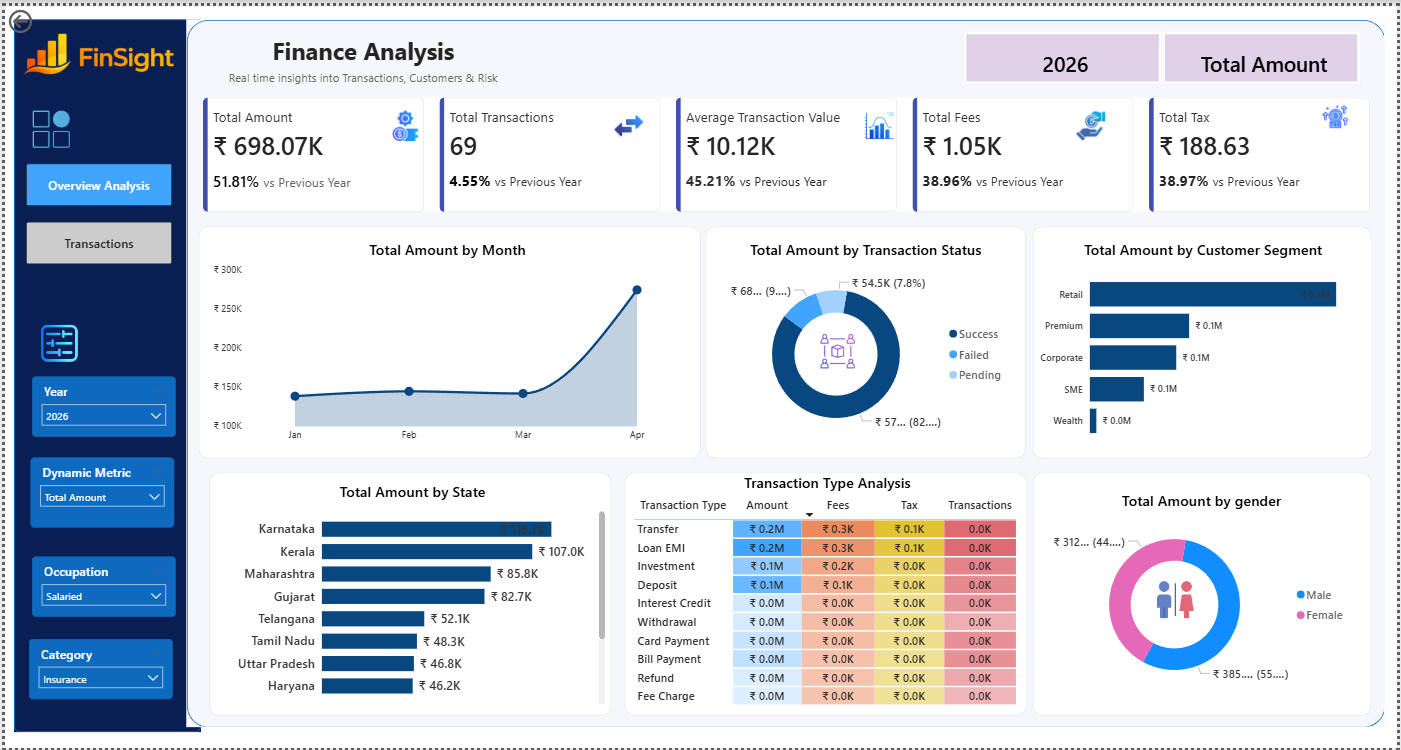

The page's visual inventory and layout, read from the dashboard file:
{"tool":"powerbi","page":{"name":"Overview Analysis","canvas":[1800,960],"ordinal":0},"visuals":[{"type":"shape","box":[10.8,17.3,241.8,921.9],"z":0},{"type":"shape","box":[235.3,17.3,1550.1,915.4],"z":1000},{"type":"image","box":[10.8,17.3,224.5,90.7],"z":2000},{"type":"card","fields":{"Values":["finance_transactions.Dashboard Title"]},"box":[256.9,19.4,414.5,99.3],"z":3000},{"type":"cardVisual","fields":{"Data":["finance_transactions.Total Amount","finance_transactions.Total Transactions","finance_transactions.Average Transaction Value","finance_transactions.Total Fees","finance_transactions.Total Tax"]},"box":[256.9,118.7,1513.4,149],"z":4000},{"type":"slicer","fields":{"Values":["Calendar Table.Year"]},"box":[34.5,479.3,185.7,77.7],"z":5000},{"type":"actionButton","box":[0,0,100,40],"z":6000},{"type":"image","box":[541.9,116.6,50,50],"z":7000},{"type":"image","box":[831.2,116.6,50,50],"z":8000},{"type":"image","box":[1429.2,116.6,49.7,49.7],"z":9000},{"type":"image","box":[1129.1,118.7,49.7,49.7],"z":10000},{"type":"image","box":[1720.7,116.6,49.7,50],"z":11000},{"type":"image","box":[492.2,129.5,49.7,49.7],"z":12000},{"type":"image","box":[781.5,129.5,49.7,49.7],"z":13000},{"type":"image","box":[1105.4,129.5,49.7,49.7],"z":14000},{"type":"image","box":[1379.6,129.5,49.7,49.7],"z":15000},{"type":"image","box":[1697,118.7,49.7,49.7],"z":16000},{"type":"slicer","fields":{"Values":["Dynamic Metric.Dynamic Metric"]},"box":[32.4,585.1,185.7,90.7],"z":17000},{"type":"shape","box":[250.4,285,649.9,300.1],"z":18000},{"type":"areaChart","fields":{"Y":["finance_transactions.Total Amount"],"Category":["Calendar Table.Month"]},"box":[263.4,302.3,617.5,269.9],"z":19000},{"type":"cardVisual","fields":{"Data":["finance_transactions.Selected Year","finance_transactions.Selected Dynamic Measure"]},"box":[1226.3,28.1,541.9,79.9],"z":20000},{"type":"shape","box":[906.8,285,414.5,300.1],"z":21000},{"type":"donutChart","fields":{"Y":["finance_transactions.Total Amount"],"Category":["finance_transactions.transaction_status"]},"box":[924,302.3,380,269.9],"z":22000},{"type":"shape","box":[1329.9,285,438.3,300.1],"z":23000},{"type":"barChart","fields":{"Y":["finance_transactions.Total Amount"],"Category":["customers.customer_segment"]},"box":[1334.2,302.3,434,272],"z":24000},{"type":"shape","box":[263.4,604.5,520.3,315],"z":25000},{"type":"barChart","fields":{"Y":["finance_transactions.Total Amount"],"Category":["customers.state"]},"box":[274.2,615.3,507.4,293.6],"z":26000},{"type":"shape","box":[801,604.5,520.3,315],"z":27000},{"type":"tableEx","title":"Transaction Type Analysis","fields":{"Values":["finance_transactions.transaction_type","finance_transactions.Total Amount","finance_transactions.Total Fees","finance_transactions.Total Tax","finance_transactions.Total Transactions"]},"box":[807.5,604.5,513.8,315.2],"z":28000},{"type":"shape","box":[1329.9,604.5,438.3,315.2],"z":29000},{"type":"donutChart","fields":{"Y":["finance_transactions.Total Amount"],"Category":["customers.gender"]},"box":[1351.5,626.1,395.1,269.9],"z":30000},{"type":"image","box":[1047.1,416.7,58.3,58.3],"z":31000},{"type":"image","box":[1478.9,736.2,71.2,64.8],"z":32000},{"type":"slicer","fields":{"Values":["customers.occupation"]},"box":[34.5,712.5,185.7,77.7],"z":33000},{"type":"slicer","fields":{"Values":["finance_transactions.merchant_category"]},"box":[30.2,818.3,185.7,77.7],"z":34000},{"type":"pageNavigator","box":[28.1,202.9,190,131.7],"z":35000},{"type":"image","box":[28.1,129.5,64.8,58.3],"z":36000},{"type":"image","box":[34.5,403.7,71.2,64.8],"z":37000}]}

Visuals, with their boxes on the page's 1800x960 design canvas (x1, y1, x2, y2). These are canvas units, not pixel positions in the 1401x750 screenshot, which may show the page scaled, cropped or inside an application window:
shape: bbox=[11, 17, 253, 939]
shape: bbox=[235, 17, 1785, 933]
image: bbox=[11, 17, 235, 108]
card - finance_transactions.Dashboard Title: bbox=[257, 19, 671, 119]
cardVisual - finance_transactions.Total Amount x finance_transactions.Total Transactions: bbox=[257, 119, 1770, 268]
slicer - Calendar Table.Year: bbox=[34, 479, 220, 557]
actionButton: bbox=[0, 0, 100, 40]
image: bbox=[542, 117, 592, 167]
image: bbox=[831, 117, 881, 167]
image: bbox=[1429, 117, 1479, 166]
image: bbox=[1129, 119, 1179, 168]
image: bbox=[1721, 117, 1770, 167]
image: bbox=[492, 130, 542, 179]
image: bbox=[782, 130, 831, 179]
image: bbox=[1105, 130, 1155, 179]
image: bbox=[1380, 130, 1429, 179]
image: bbox=[1697, 119, 1747, 168]
slicer - Dynamic Metric.Dynamic Metric: bbox=[32, 585, 218, 676]
shape: bbox=[250, 285, 900, 585]
areaChart - finance_transactions.Total Amount x Calendar Table.Month: bbox=[263, 302, 881, 572]
cardVisual - finance_transactions.Selected Year x finance_transactions.Selected Dynamic Measure: bbox=[1226, 28, 1768, 108]
shape: bbox=[907, 285, 1321, 585]
donutChart - finance_transactions.Total Amount x finance_transactions.transaction_status: bbox=[924, 302, 1304, 572]
shape: bbox=[1330, 285, 1768, 585]
barChart - finance_transactions.Total Amount x customers.customer_segment: bbox=[1334, 302, 1768, 574]
shape: bbox=[263, 604, 784, 920]
barChart - finance_transactions.Total Amount x customers.state: bbox=[274, 615, 782, 909]
shape: bbox=[801, 604, 1321, 920]
"Transaction Type Analysis" tableEx: bbox=[808, 604, 1321, 920]
shape: bbox=[1330, 604, 1768, 920]
donutChart - finance_transactions.Total Amount x customers.gender: bbox=[1352, 626, 1747, 896]
image: bbox=[1047, 417, 1105, 475]
image: bbox=[1479, 736, 1550, 801]
slicer - customers.occupation: bbox=[34, 712, 220, 790]
slicer - finance_transactions.merchant_category: bbox=[30, 818, 216, 896]
pageNavigator: bbox=[28, 203, 218, 335]
image: bbox=[28, 130, 93, 188]
image: bbox=[34, 404, 106, 468]
